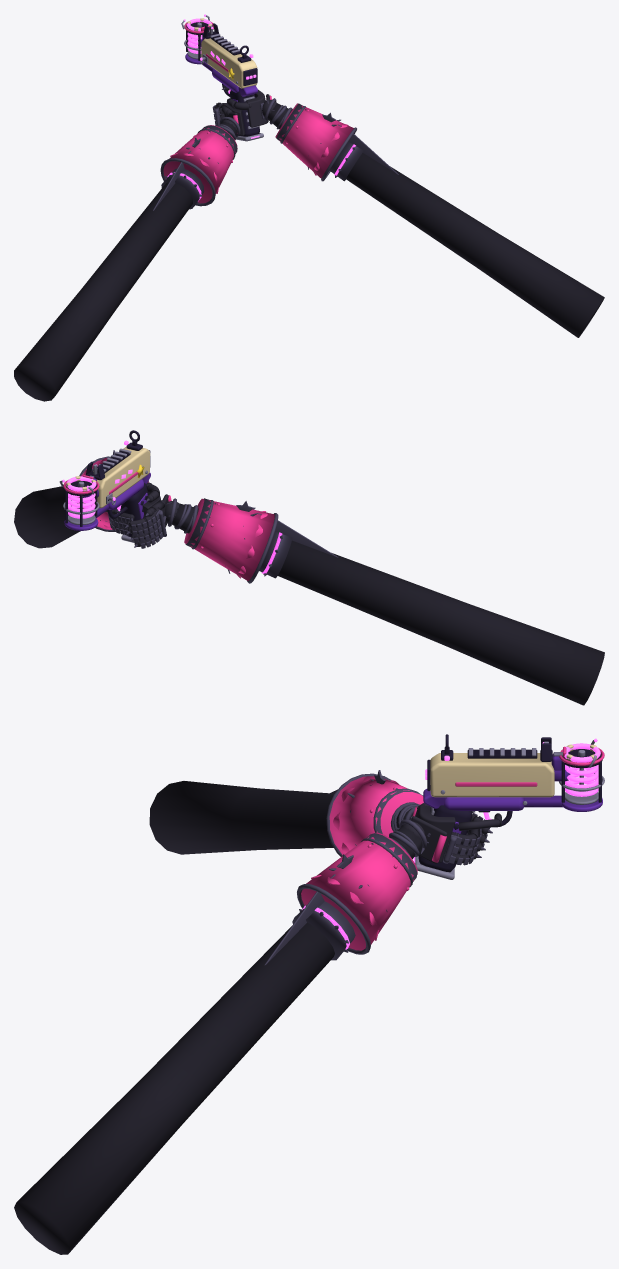
File: ring_toss.glb
The picture shows the model from 3 angles, top to bottom: view 1: azimuth 30°, elevation 25°; view 2: azimuth 150°, elevation 25°; view 3: azimuth 270°, elevation 25°; orthographic projection. The views are drawn at different scales.
Parts seen in each view (by area): view 1: ArmR, ArmL, Shell, ArmRKitBell, ArmLKitBell; view 2: ArmL, ArmLKitBell, Shell, ArmR, ArmLKitGauntlet, ArmLKitFins, ArmLKitWraps; view 3: ArmR, ArmL, Shell, ArmRKitBell, ArmLKitBell, ArmRKitGauntlet, ArmRKitMitten, ArmRKitFins.
Boxes of the visible parts, x1,y1,x2,y2 form: ArmR: (224,86,604,337); ArmL: (14,102,245,401); Shell: (184,21,263,141); ArmRKitBell: (275,103,356,181); ArmLKitBell: (160,125,237,206); ArmL: (126,496,604,705); ArmLKitBell: (184,498,278,583); Shell: (63,446,150,542); ArmR: (14,482,159,548); ArmLKitGauntlet: (131,498,220,549); ArmLKitFins: (163,513,338,557); ArmLKitWraps: (159,498,198,536); ArmR: (14,803,501,1254); ArmL: (149,781,488,859); Shell: (413,748,604,879); ArmRKitBell: (297,832,417,954); ArmLKitBell: (326,770,423,856); ArmRKitGauntlet: (366,816,481,890); ArmRKitMitten: (411,816,447,863); ArmRKitFins: (264,828,428,965).
Size of the model in its own units: 2.27 by 0.9858 by 1.44.
